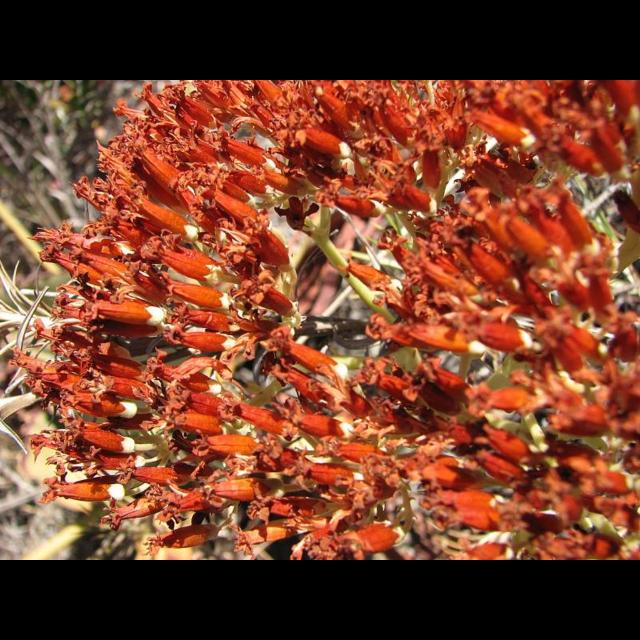Flower: (9, 80, 638, 560), (80, 295, 168, 325)
